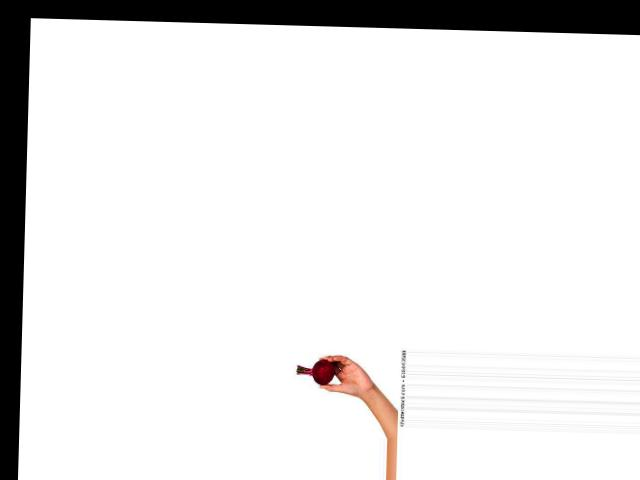beet: (296, 357, 335, 384)
